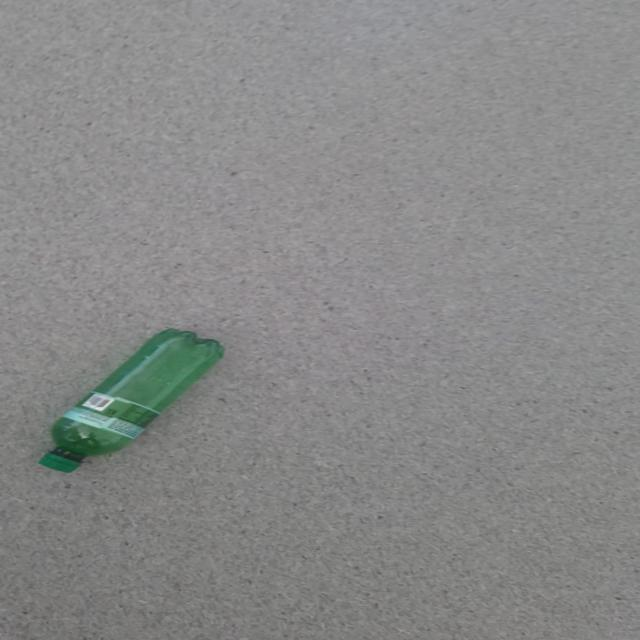bottle: (37, 327, 225, 474)
